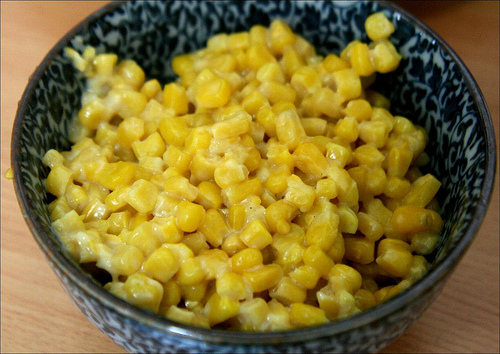corn: (45, 12, 444, 333), (239, 219, 273, 251)
